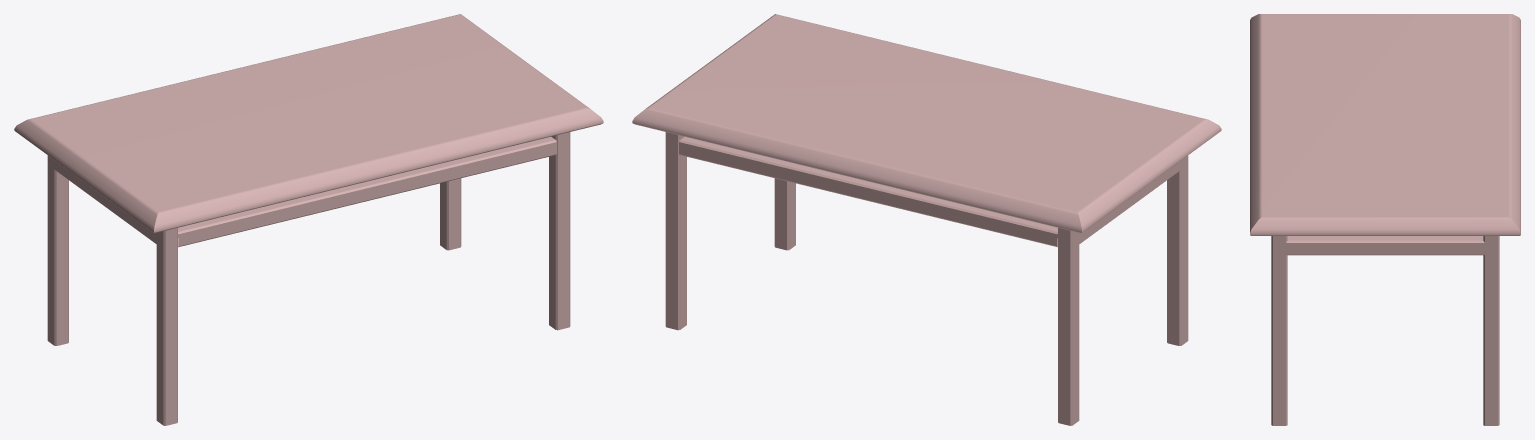
The model's file is Table.fbx.
The picture shows the model from 3 angles, left to right: view 1: azimuth 30°, elevation 25°; view 2: azimuth 150°, elevation 25°; view 3: azimuth 270°, elevation 25°; orthographic projection. The views are drawn at different scales.
Parts seen in each view (by area): view 1: pCube13; view 2: pCube13; view 3: pCube13.
Part boxes in pixels (x1,y1,x2,y2): pCube13: [14, 14, 603, 425]; pCube13: [632, 14, 1221, 425]; pCube13: [1250, 14, 1520, 425].
Size of the model in its own units: 199 by 93.1 by 107.
